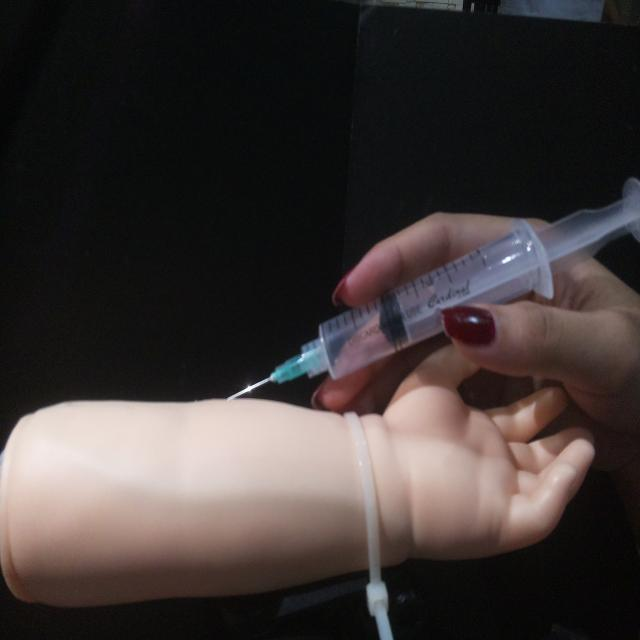19deg: (222, 174, 638, 403)
